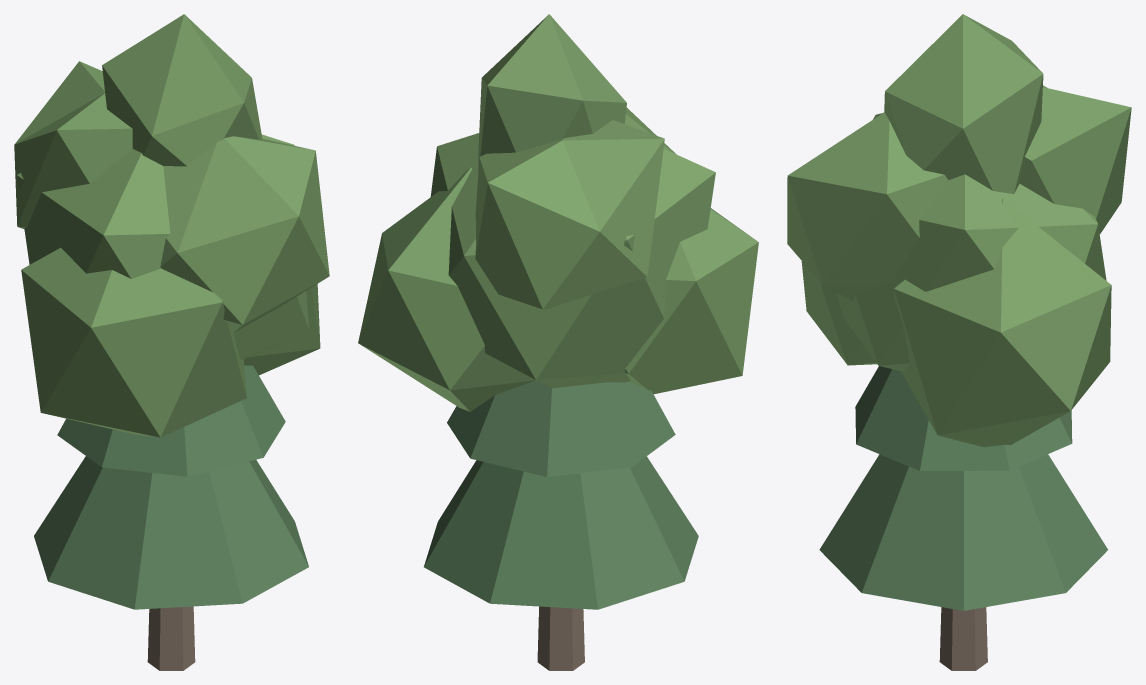
The model's file is baeume.glb.
3 views of the same model, side by side, from view 1: azimuth 30°, elevation 25°; view 2: azimuth 150°, elevation 25°; view 3: azimuth 270°, elevation 25° (orthographic).
Parts seen in each view (by area): view 1: Laubbaum_mesh, Nadelbaum_mesh; view 2: Laubbaum_mesh, Nadelbaum_mesh; view 3: Laubbaum_mesh, Nadelbaum_mesh.
Boxes of the visible parts, box(x1,y1,x2,y2) form: Laubbaum_mesh: box(14, 14, 329, 670); Nadelbaum_mesh: box(34, 365, 308, 609); Laubbaum_mesh: box(358, 14, 758, 670); Nadelbaum_mesh: box(424, 380, 698, 609); Laubbaum_mesh: box(787, 14, 1131, 670); Nadelbaum_mesh: box(819, 366, 1107, 610).
Size of the model in its own units: 0.5395 by 1.05 by 0.5006.
